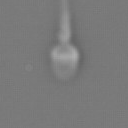abnormal: (51, 1, 80, 45)
